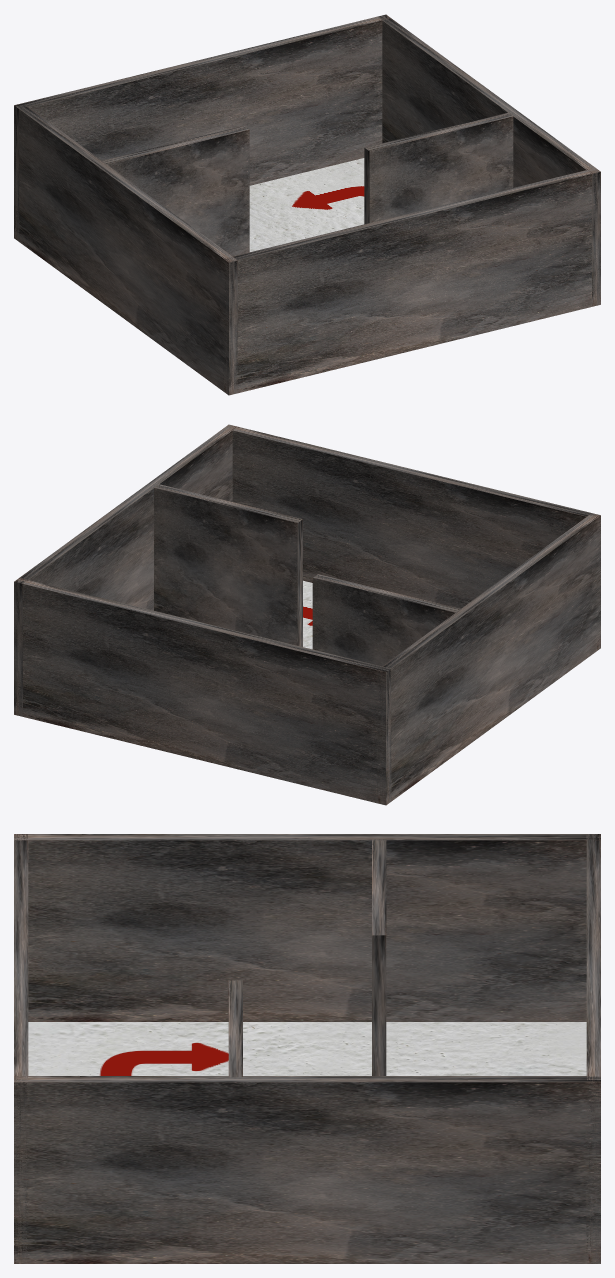
The model's file is exhibition_test.gltf.
3 renders of one model, top to bottom at view 1: azimuth 30°, elevation 25°; view 2: azimuth 150°, elevation 25°; view 3: azimuth 270°, elevation 25°, orthographic. The views are drawn at different scales.
Parts seen in each view (by area): view 1: wall4, wall2, wall3, wall1, subWall1, subWall2, floor; view 2: wall2, wall4, wall3, subWall1, wall1, subWall2, floor; view 3: wall1, wall3, floor, wall4, wall2, subWall2, subWall1.
Part boxes in pixels (x1,y1,x2,y2): wall4: [223, 168, 600, 394]; wall2: [14, 15, 390, 241]; wall3: [14, 105, 237, 395]; wall1: [377, 14, 600, 306]; subWall1: [364, 112, 513, 224]; subWall2: [102, 125, 249, 256]; floor: [249, 158, 364, 251]; wall2: [14, 578, 391, 805]; wall4: [224, 425, 600, 646]; wall3: [377, 514, 600, 805]; subWall1: [153, 484, 302, 646]; wall1: [14, 424, 237, 716]; subWall2: [312, 574, 461, 666]; floor: [303, 580, 312, 649]; wall1: [14, 1076, 600, 1263]; wall3: [14, 834, 600, 1021]; floor: [28, 1022, 586, 1075]; wall4: [14, 834, 28, 1263]; wall2: [586, 834, 600, 1263]; subWall2: [372, 839, 386, 1075]; subWall1: [228, 980, 242, 1077].
Bounding box in the file's own units: 205 × 70 × 205.
8 materials, 8 textured.
